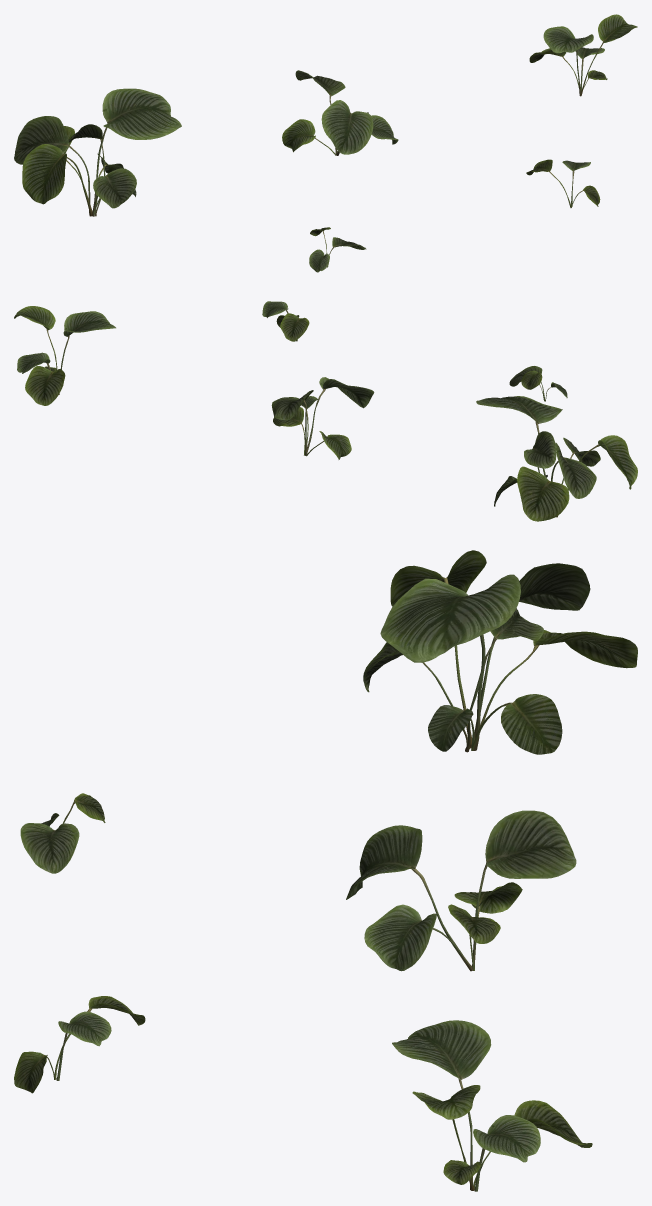
Rendered from calathea_orbifolia_01.glb.
The picture shows the model from 3 angles, top to bottom: view 1: azimuth 30°, elevation 25°; view 2: azimuth 150°, elevation 25°; view 3: azimuth 270°, elevation 25°; orthographic projection. The views are drawn at different scales.
Parts seen in each view (by area): view 1: calathea_orbifolia_01_a; view 2: calathea_orbifolia_01_a; view 3: calathea_orbifolia_01_a.
Part boxes in pixels (x1,y1,x2,y2): calathea_orbifolia_01_a: (14,14,637,272); calathea_orbifolia_01_a: (14,301,637,521); calathea_orbifolia_01_a: (14,550,637,1191).
Size of the model in its own units: 2.49 by 0.4243 by 1.19.
1 material, 1 textured.
